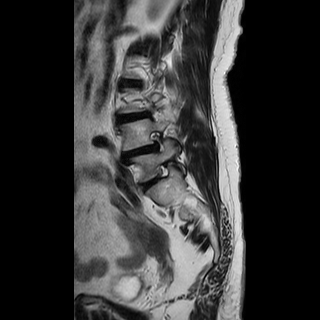RFS2: (146, 124, 170, 156)
